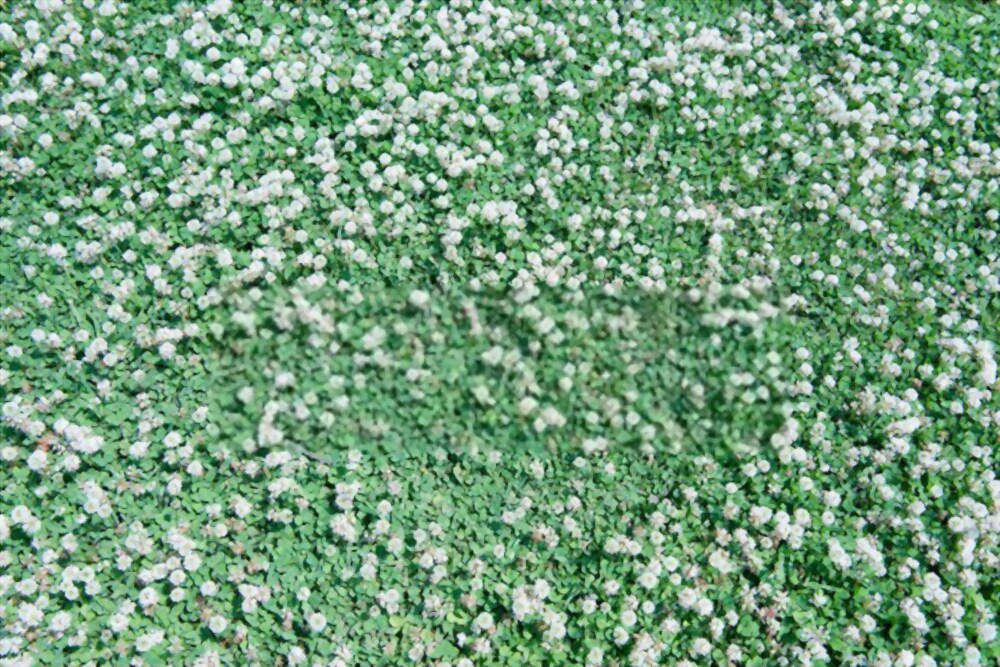clover: (3, 1, 991, 660)
